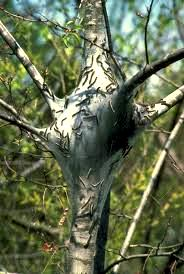Caterpillar: (84, 74, 103, 90), (96, 52, 108, 72), (80, 165, 94, 181), (75, 96, 92, 107), (79, 196, 92, 210), (88, 32, 99, 48), (107, 99, 118, 114), (86, 76, 98, 89), (71, 122, 85, 133), (124, 95, 133, 110), (121, 146, 132, 158), (92, 178, 105, 188), (72, 109, 86, 117), (49, 117, 56, 132), (78, 175, 86, 188), (112, 117, 120, 130), (93, 112, 100, 126), (60, 115, 68, 127), (82, 74, 89, 87), (65, 96, 69, 110), (83, 69, 94, 74), (74, 87, 81, 93), (96, 87, 101, 95), (55, 109, 64, 113)
